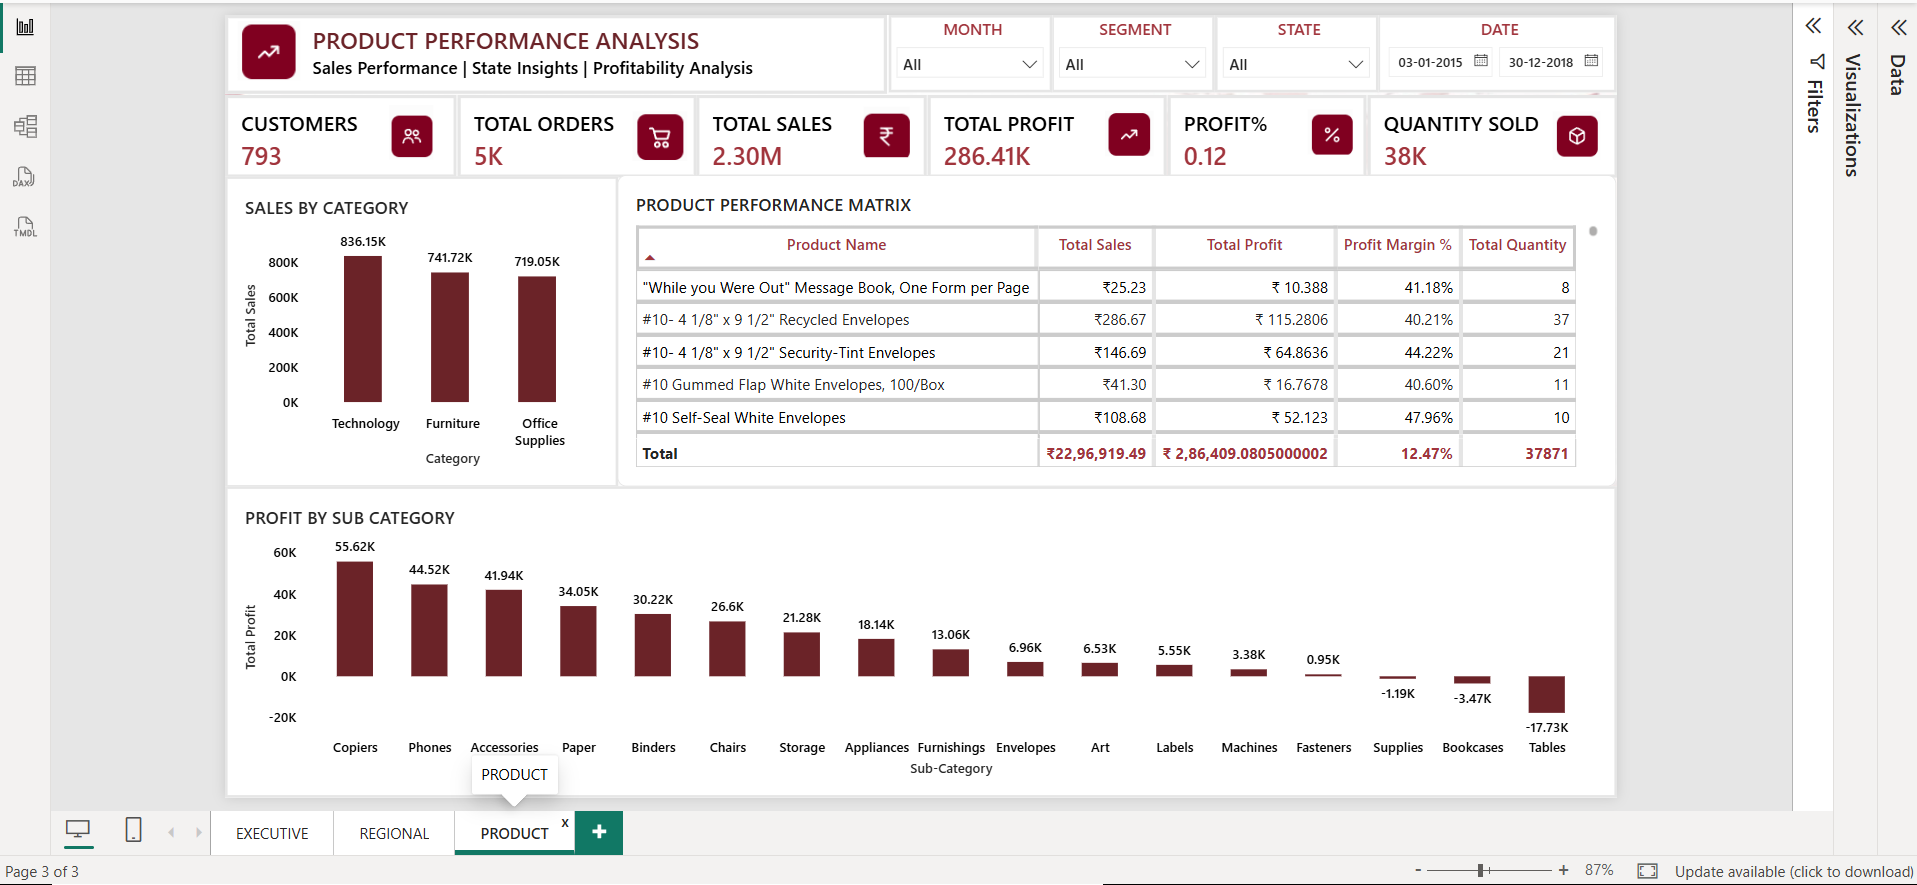

This screenshot's page, from the dashboard's own definition file:
{"tool":"powerbi","page":{"name":"PRODUCT","canvas":[1280,720],"ordinal":2},"visuals":[{"type":"cardVisual","fields":{"Data":["superstore_sales_clean.Total Sales"]},"box":[433.8,73,212.5,76.2],"z":0},{"type":"cardVisual","fields":{"Data":["superstore_sales_clean.Total Orders"]},"box":[213.8,73,220,76.2],"z":1000},{"type":"cardVisual","fields":{"Data":["superstore_sales_clean.Total Customers"]},"box":[0,73,213.8,76.2],"z":2000},{"type":"cardVisual","fields":{"Data":["superstore_sales_clean.Total Profit"]},"box":[646.2,73,220,76.2],"z":3000},{"type":"cardVisual","fields":{"Data":["superstore_sales_clean.Profit Margin %"]},"box":[866.2,73,183.8,76.2],"z":4000},{"type":"image","box":[146.2,83,50,50],"z":5000},{"type":"image","box":[375,86.8,50,50],"z":6000},{"type":"image","box":[808.8,86.8,45,46.2],"z":7000},{"type":"image","box":[587.5,83,42.5,50],"z":8000},{"type":"image","box":[995,83,41.2,50],"z":9000},{"type":"cardVisual","fields":{"Data":["superstore_sales_clean.Total Quantity"]},"box":[1050,73,230,76.2],"z":10000},{"type":"image","box":[1221.2,86.8,43.8,50],"z":11000},{"type":"slicer","title":"DATE","fields":{"Values":["superstore_sales_clean.Order Date"]},"box":[1060,0,220,71.2],"z":12000},{"type":"slicer","title":"STATE","fields":{"Values":["superstore_sales_clean.State"]},"box":[910,0,150,71.2],"z":13000},{"type":"slicer","title":"SEGMENT","fields":{"Values":["superstore_sales_clean.Segment"]},"box":[760,0,150,71.2],"z":14000},{"type":"slicer","title":"MONTH","fields":{"Values":["DimDate.Month"]},"box":[610,0,150,71.2],"z":15000},{"type":"shape","box":[0,0,608.8,72.5],"z":16000},{"type":"textbox","box":[80,7.5,487.5,52.5],"z":17000},{"type":"image","box":[11.2,0,57.5,66.2],"z":18000},{"type":"clusteredColumnChart","title":"SALES BY  CATEGORY","fields":{"Category":["superstore_sales_clean.Category"],"Y":["superstore_sales_clean.Total Sales"]},"box":[0,148.8,361.2,286.2],"z":19000},{"type":"clusteredColumnChart","title":"PROFIT BY SUB CATEGORY","fields":{"Category":["superstore_sales_clean.Sub-Category"],"Y":["superstore_sales_clean.Total Profit"]},"box":[0,433.8,1280,286.2],"z":20000},{"type":"pivotTable","title":"PRODUCT PERFORMANCE MATRIX","fields":{"Values":["superstore_sales_clean.Total Sales","superstore_sales_clean.Total Profit","superstore_sales_clean.Profit Margin %","superstore_sales_clean.Total Quantity"],"Rows":["superstore_sales_clean.Product Name"]},"box":[361.2,147.5,918.8,286.2],"z":21000}]}

Visuals, with their boxes on the page's 1280x720 design canvas (x1, y1, x2, y2). These are canvas units, not pixel positions in the 1917x885 screenshot, which may show the page scaled, cropped or inside an application window:
cardVisual - superstore_sales_clean.Total Sales: x1=434, y1=73, x2=646, y2=149
cardVisual - superstore_sales_clean.Total Orders: x1=214, y1=73, x2=434, y2=149
cardVisual - superstore_sales_clean.Total Customers: x1=0, y1=73, x2=214, y2=149
cardVisual - superstore_sales_clean.Total Profit: x1=646, y1=73, x2=866, y2=149
cardVisual - superstore_sales_clean.Profit Margin %: x1=866, y1=73, x2=1050, y2=149
image: x1=146, y1=83, x2=196, y2=133
image: x1=375, y1=87, x2=425, y2=137
image: x1=809, y1=87, x2=854, y2=133
image: x1=588, y1=83, x2=630, y2=133
image: x1=995, y1=83, x2=1036, y2=133
cardVisual - superstore_sales_clean.Total Quantity: x1=1050, y1=73, x2=1280, y2=149
image: x1=1221, y1=87, x2=1265, y2=137
"DATE" slicer: x1=1060, y1=0, x2=1280, y2=71
"STATE" slicer: x1=910, y1=0, x2=1060, y2=71
"SEGMENT" slicer: x1=760, y1=0, x2=910, y2=71
"MONTH" slicer: x1=610, y1=0, x2=760, y2=71
shape: x1=0, y1=0, x2=609, y2=72
textbox: x1=80, y1=8, x2=568, y2=60
image: x1=11, y1=0, x2=69, y2=66
"SALES BY  CATEGORY" clusteredColumnChart: x1=0, y1=149, x2=361, y2=435
"PROFIT BY SUB CATEGORY" clusteredColumnChart: x1=0, y1=434, x2=1280, y2=720
"PRODUCT PERFORMANCE MATRIX" pivotTable: x1=361, y1=148, x2=1280, y2=434
